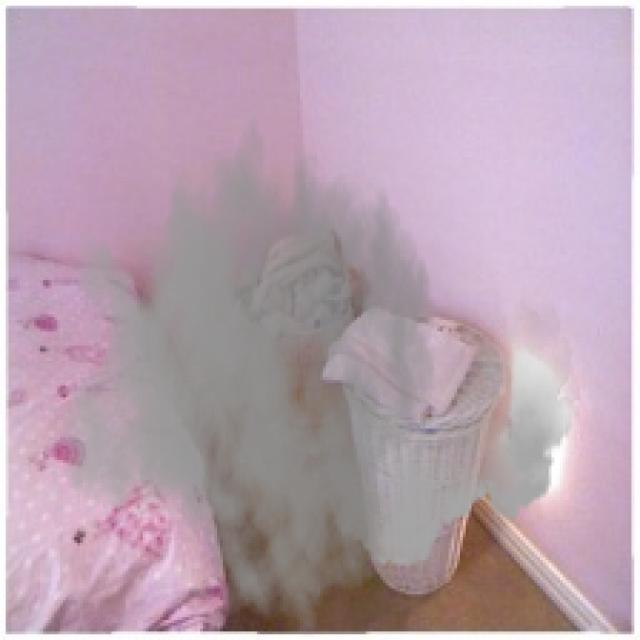smoke: (57, 89, 580, 637)
